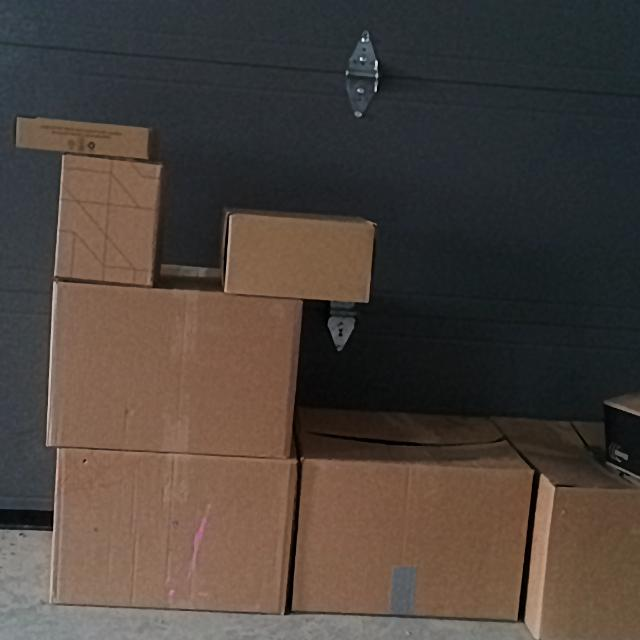box: (49, 298, 297, 451), (49, 456, 290, 609), (299, 467, 527, 617), (547, 486, 640, 639), (60, 159, 161, 287), (230, 214, 371, 303), (16, 123, 151, 152)
